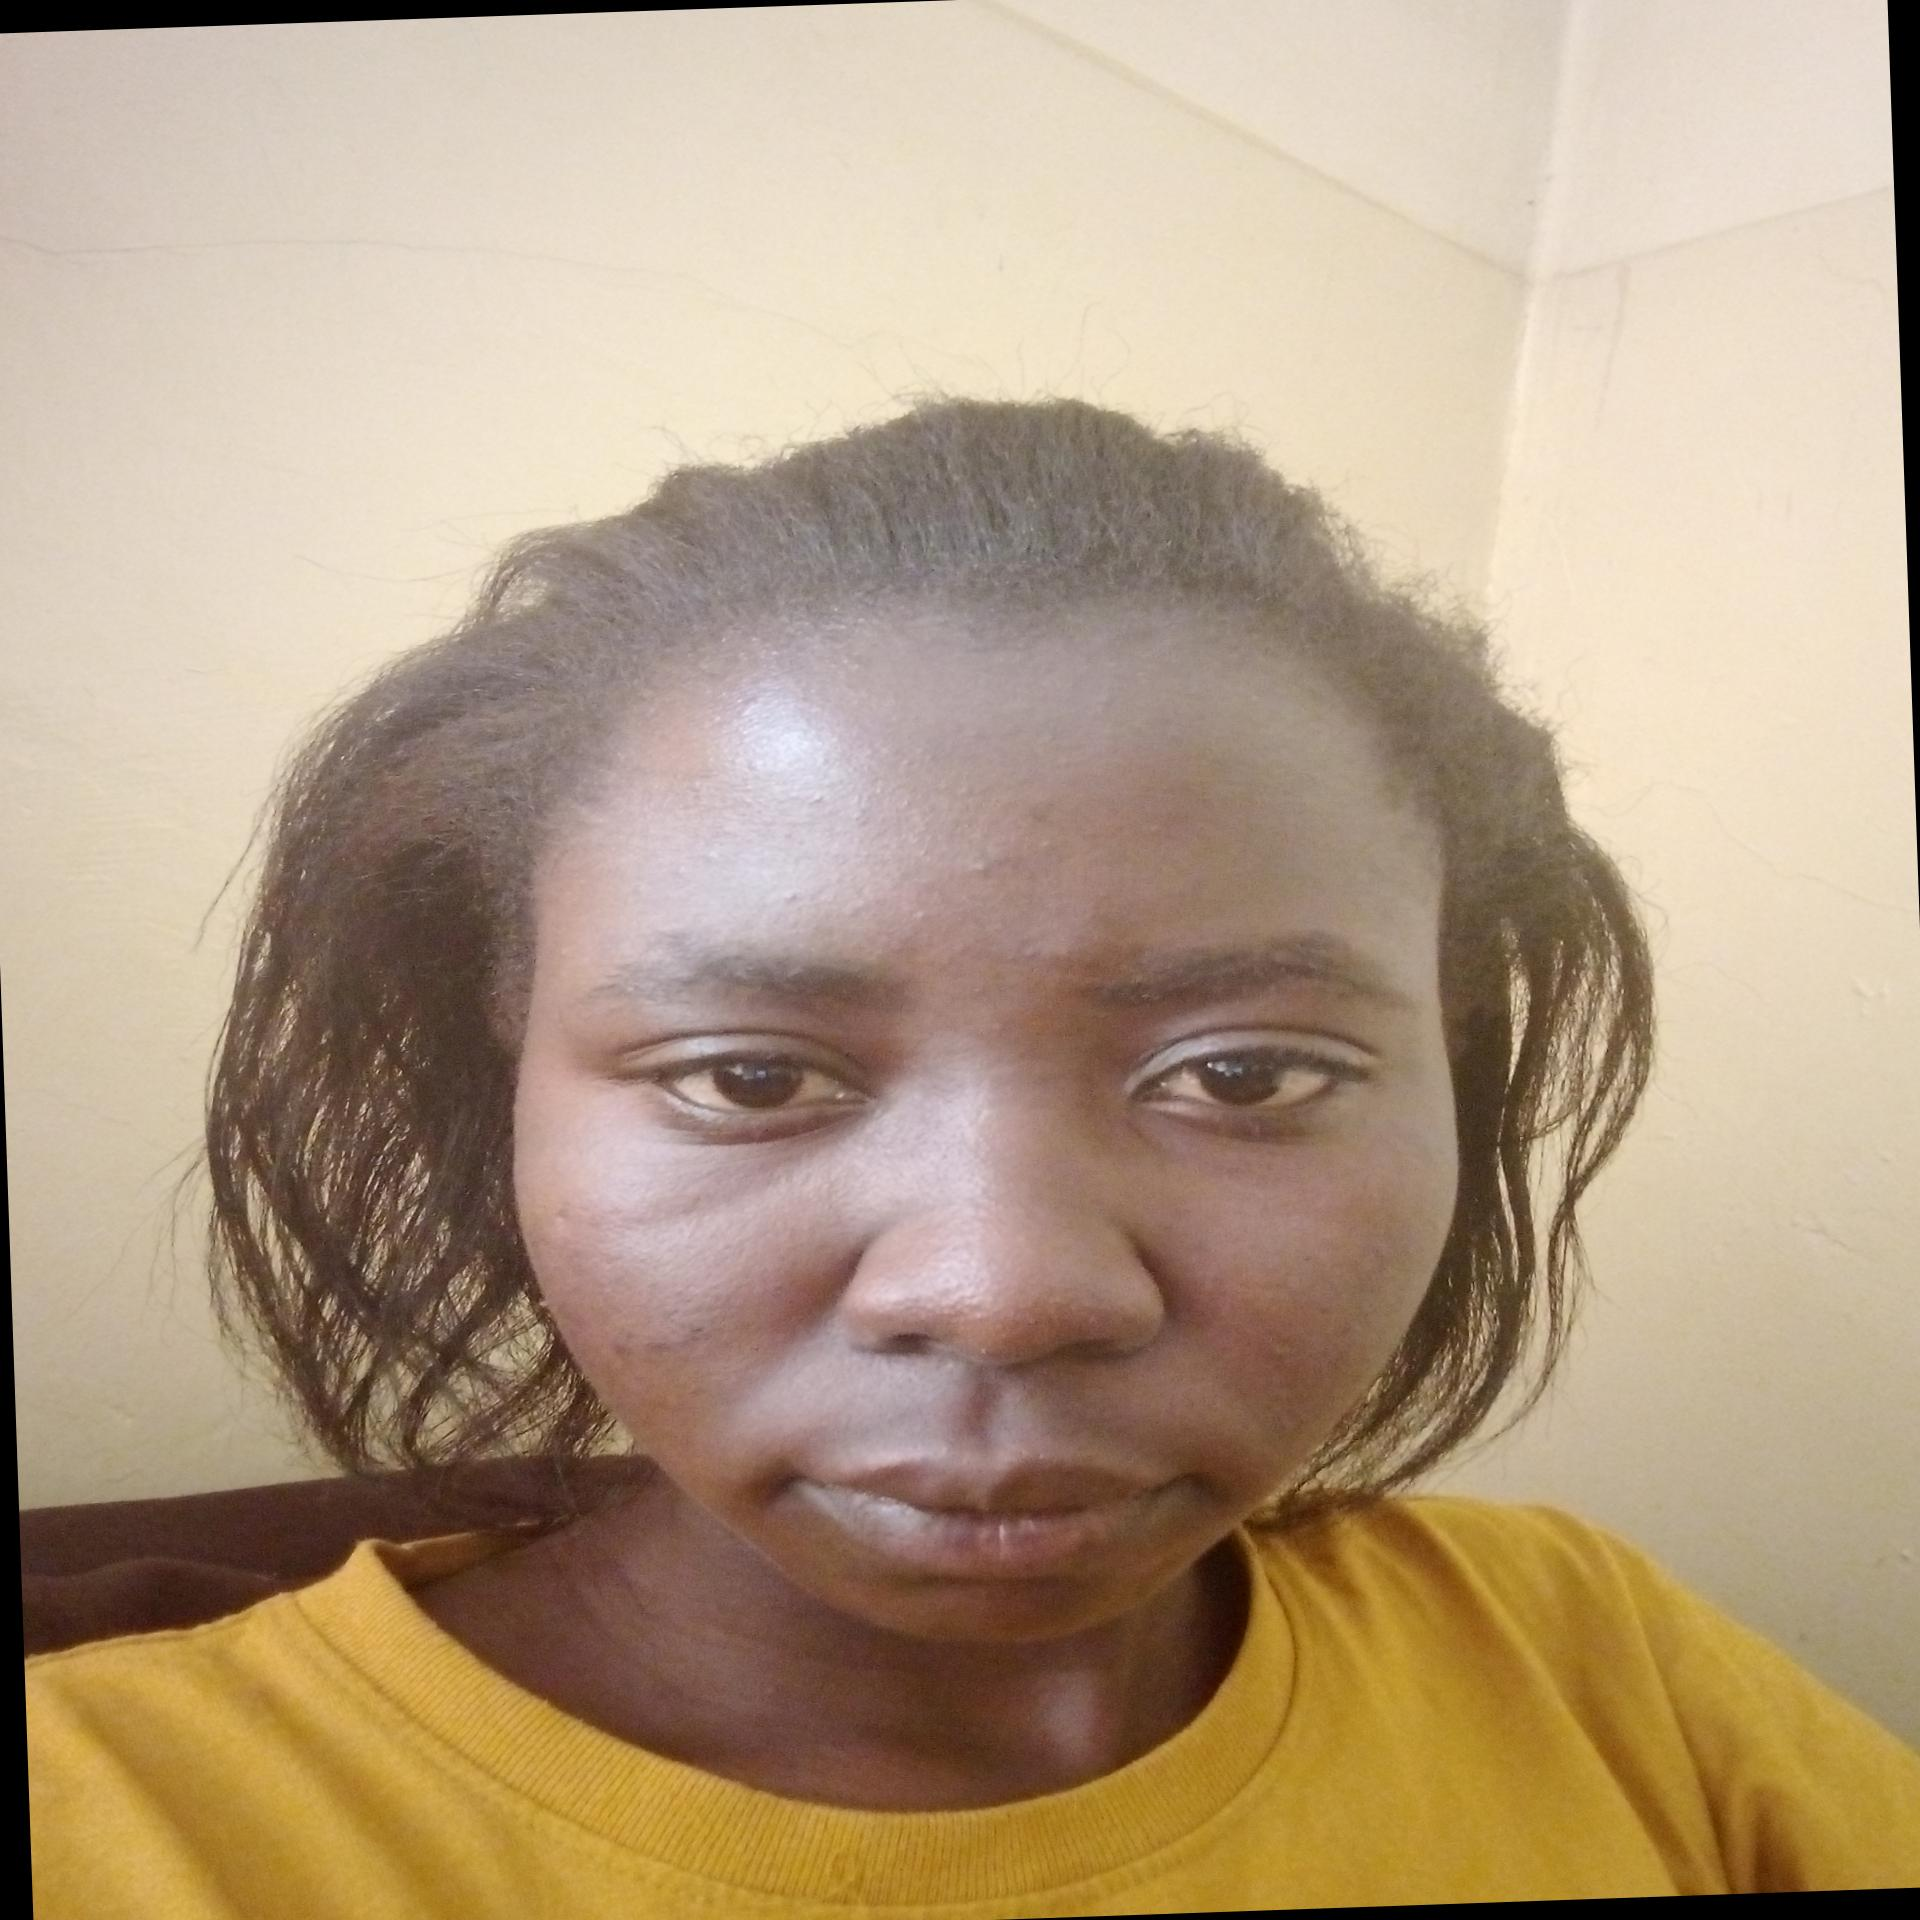Acne: (668, 1320, 723, 1350), (1016, 795, 1064, 828), (789, 781, 832, 818), (721, 689, 765, 723), (649, 858, 703, 881), (955, 855, 999, 883), (598, 1331, 628, 1371), (767, 886, 805, 916), (909, 900, 942, 925), (835, 805, 867, 830), (849, 740, 876, 768), (737, 754, 774, 774), (870, 745, 897, 772), (1090, 687, 1113, 714), (895, 756, 914, 779), (695, 844, 717, 860)
